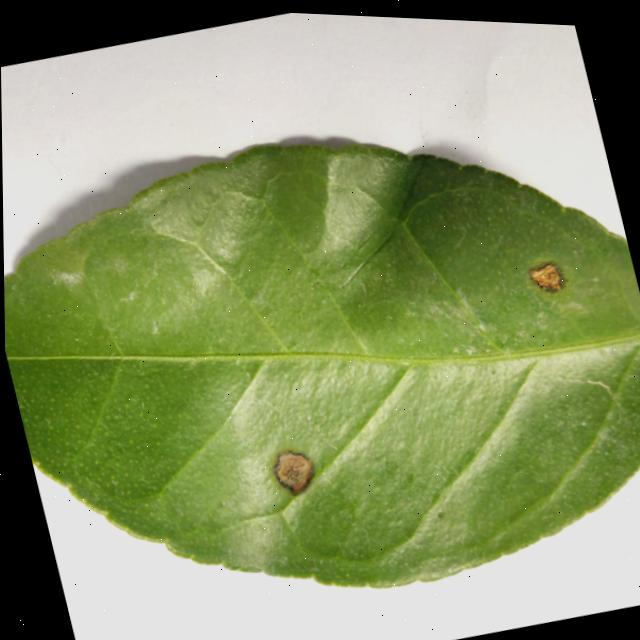antracnose: (4, 143, 640, 585), (273, 450, 312, 493), (528, 263, 560, 289)
